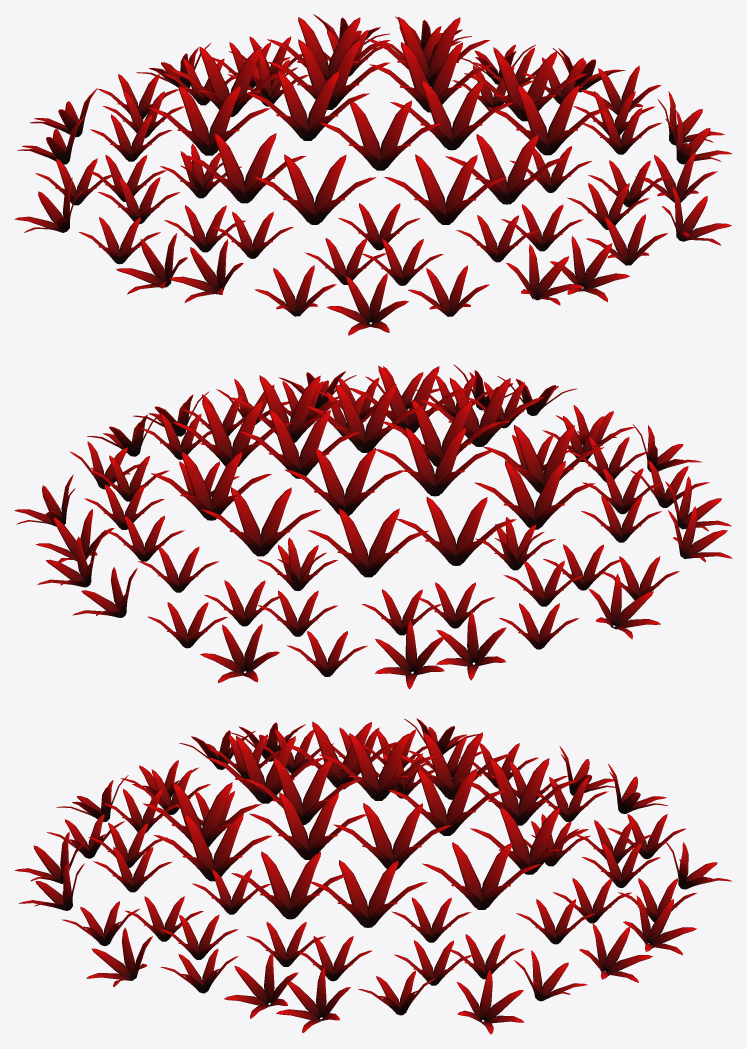
The model's file is SMFol_VolcanicFlats_DracaenaFrond.fbx.
3 views of the same model, one above another, from view 1: azimuth 30°, elevation 25°; view 2: azimuth 150°, elevation 25°; view 3: azimuth 270°, elevation 25° (orthographic). The views are drawn at different scales.
Parts seen in each view (by area): view 1: Plane.090; view 2: Plane.090; view 3: Plane.090.
Part boxes in pixels (<box>): Plane.090: <box>14,14,732,335</box>; Plane.090: <box>14,364,732,689</box>; Plane.090: <box>14,718,732,1034</box>.
Size of the model in its own units: 1241 by 229 by 1264.
